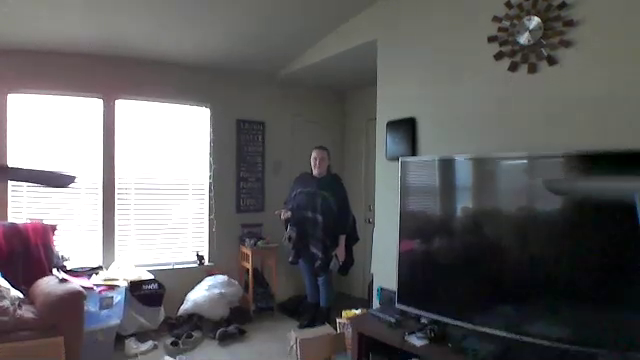land: (273, 206, 294, 222)
